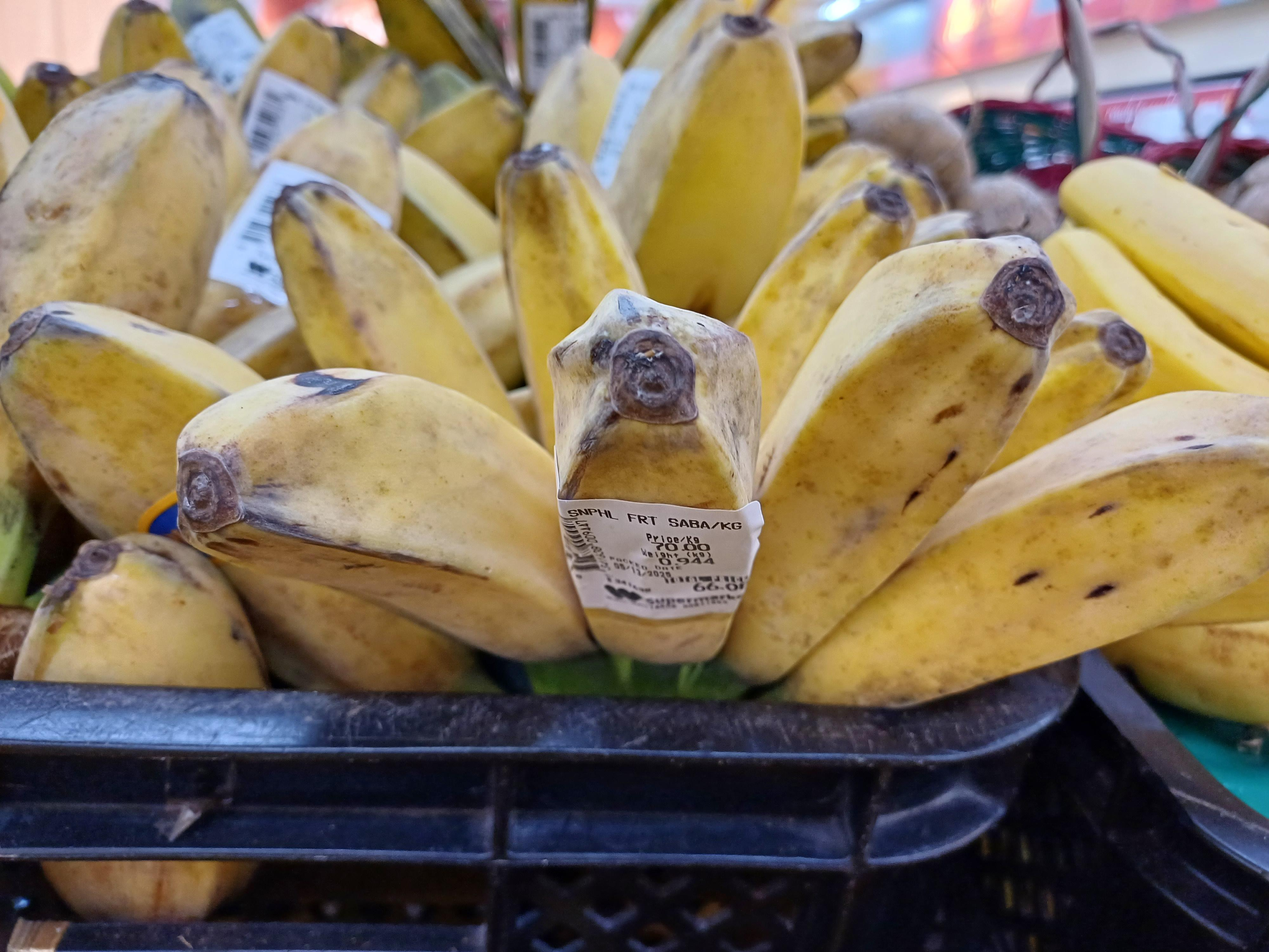ripe: (0, 17, 1269, 708), (607, 12, 807, 328)
